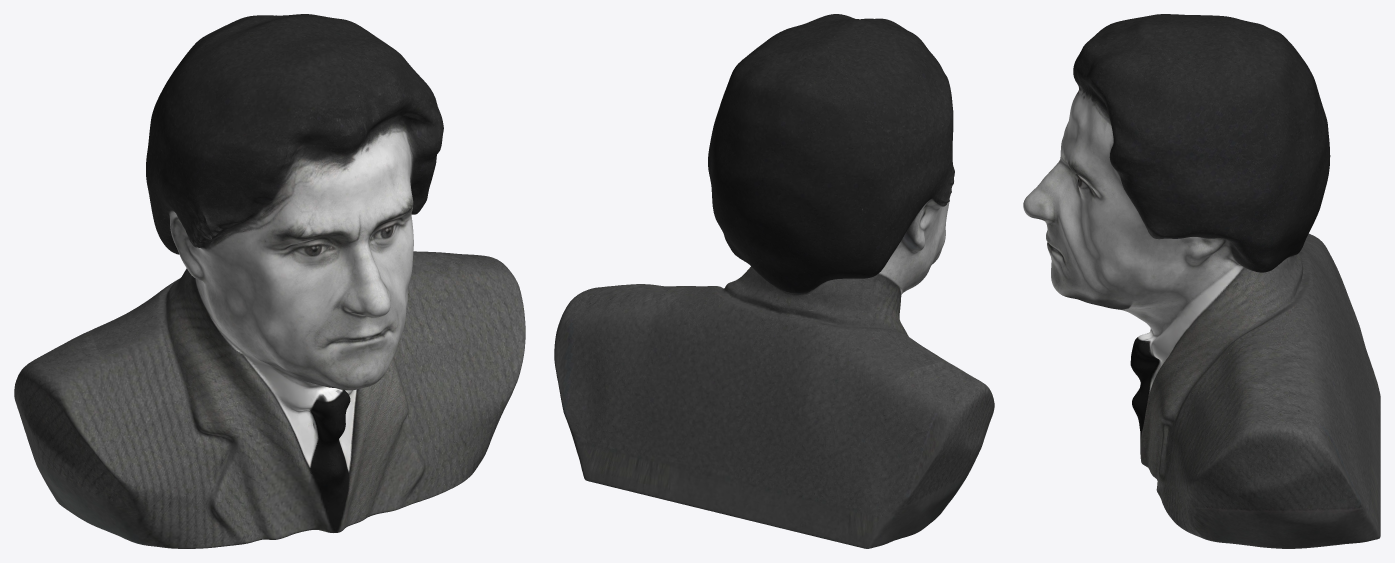
Rendered from KazimirMalevich_under_2mb.glb.
The picture shows the model from 3 angles, left to right: view 1: azimuth 30°, elevation 25°; view 2: azimuth 150°, elevation 25°; view 3: azimuth 270°, elevation 25°; orthographic projection. The views are drawn at different scales.
Size of the model in its own units: 1.9 by 1.87 by 1.41.
1 material, 1 textured.
